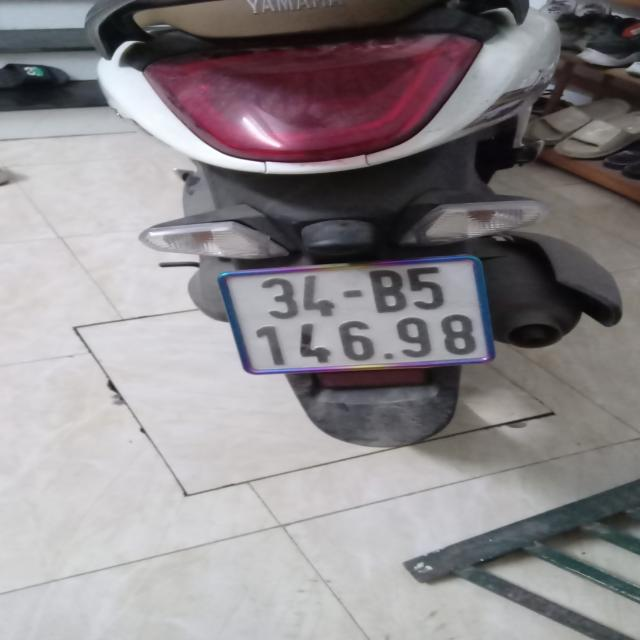License: (217, 254, 496, 375)
